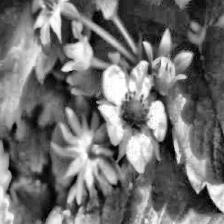Blossom Blight: (117, 88, 151, 138)
